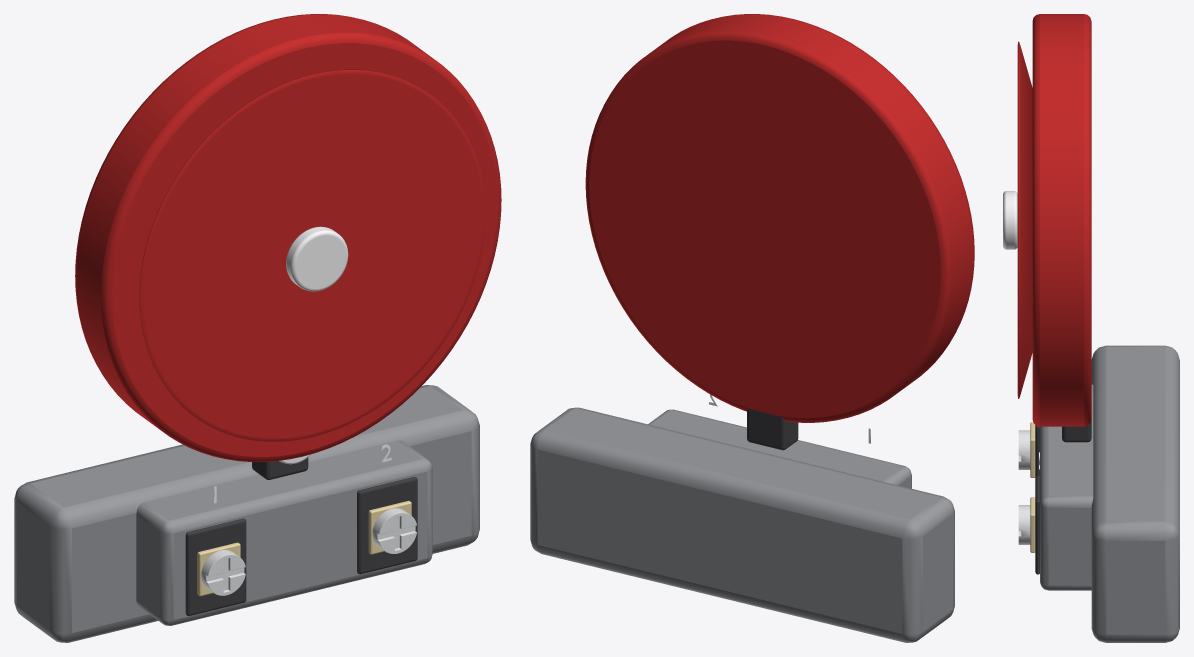
Rendered from bell.glb.
3 views of the same model, side by side, from view 1: azimuth 30°, elevation 25°; view 2: azimuth 150°, elevation 25°; view 3: azimuth 270°, elevation 25° (orthographic). The views are drawn at different scales.
Visible parts, largest first — view 1: gong, mech, body; view 2: gong, body, mech; view 3: gong, body, mech.
Boxes of the visible parts, box(x1,y1,x2,y2) form: gong: box(75, 14, 501, 461); mech: box(136, 440, 432, 625); body: box(14, 385, 479, 642); gong: box(585, 14, 974, 422); body: box(530, 407, 954, 642); mech: box(648, 394, 911, 488); gong: box(1003, 14, 1091, 426); body: box(1062, 345, 1179, 642); mech: box(1018, 384, 1093, 590).
Size of the model in its own units: 0.06 by 0.078 by 0.024.
